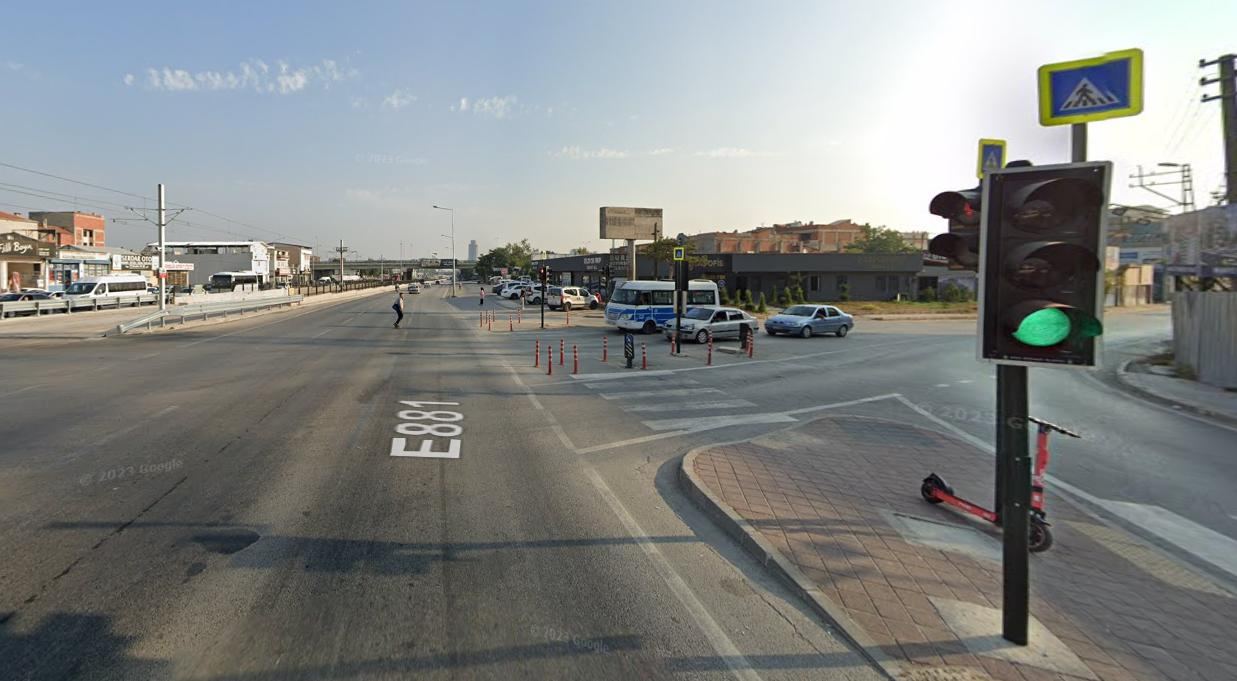greenlight: (982, 168, 1106, 374)
